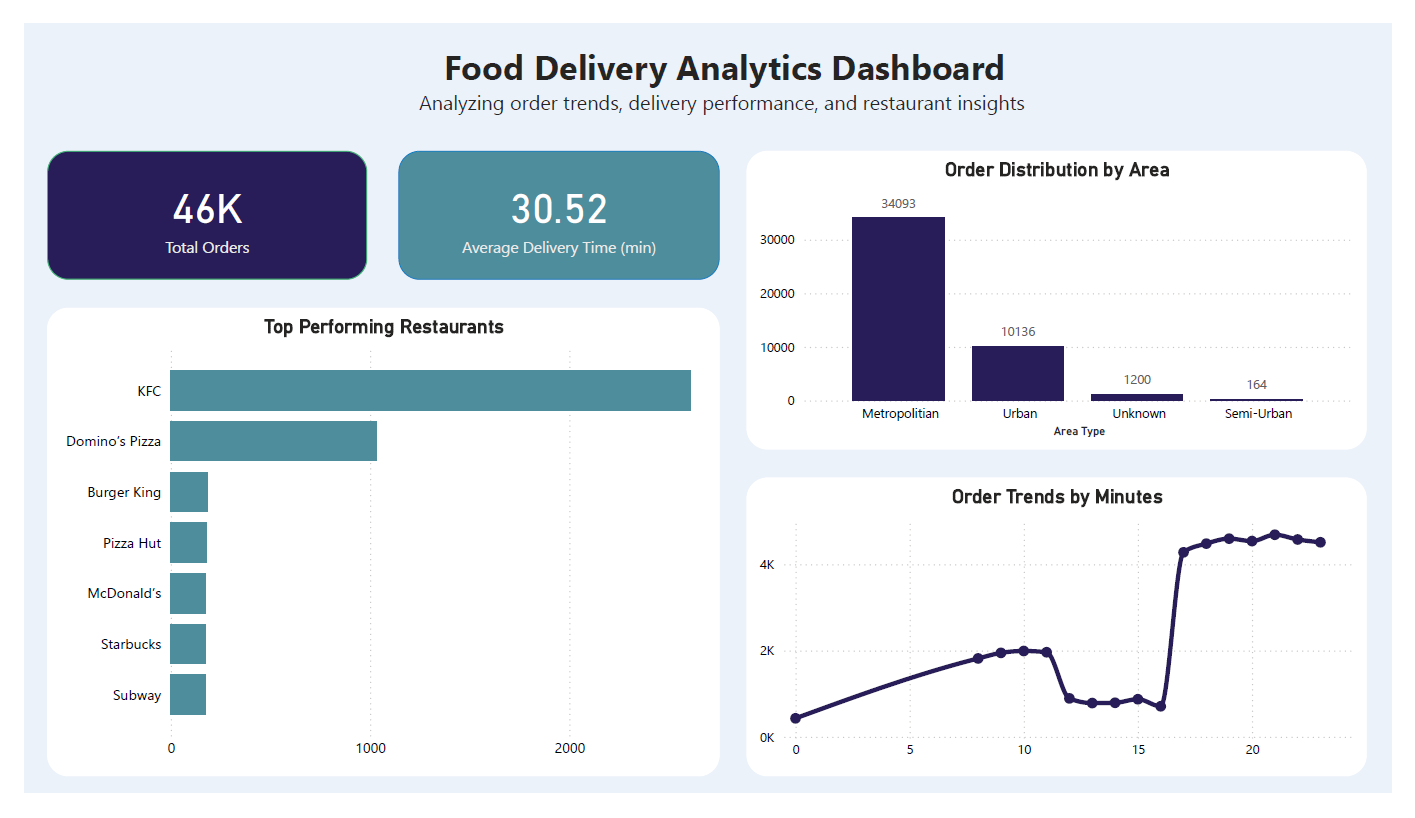

This screenshot's page, from the dashboard's own definition file:
{"tool":"powerbi","page":{"name":"Page 1","canvas":[1280,720],"ordinal":0},"visuals":[{"type":"card","fields":{"Values":["Sum(OrdersByCity.total_orders)"]},"box":[20.7,118.9,300.6,120.9],"z":0},{"type":"card","fields":{"Values":["Avg(AvgDelivery.avg_delivery_time)"]},"box":[349.9,118.9,300.6,120.9],"z":1000},{"type":"columnChart","title":"Order Distribution by Area","fields":{"Category":["OrdersByCity.City"],"Y":["Sum(OrdersByCity.total_orders)"]},"box":[676,119.3,580.6,279.9],"z":2000},{"type":"barChart","title":"Top Performing Restaurants","fields":{"Category":["TopRestaurants.restaurant_name"],"Y":["Sum(TopRestaurants.total_orders)"]},"box":[20.7,265.6,629.9,439],"z":3000},{"type":"lineChart","title":"Order Trends by Minutes ","fields":{"Category":["OrdersByTime.order_hour"],"Y":["Sum(OrdersByTime.total_orders)"]},"box":[676,424.7,580.6,279.9],"z":4000},{"type":"textbox","box":[361.1,12.7,583.8,87.5],"z":5000}]}

Visuals, with their boxes in screenshot pixels (x1, y1, x2, y2), scaled from the page's 1280x720 canvas onto the 1415x818 screenshot:
card - Sum(OrdersByCity.total_orders): select_region(23, 135, 355, 272)
card - Avg(AvgDelivery.avg_delivery_time): select_region(387, 135, 719, 272)
"Order Distribution by Area" columnChart: select_region(747, 136, 1389, 454)
"Top Performing Restaurants" barChart: select_region(23, 302, 719, 801)
"Order Trends by Minutes " lineChart: select_region(747, 483, 1389, 801)
textbox: select_region(399, 14, 1045, 114)
